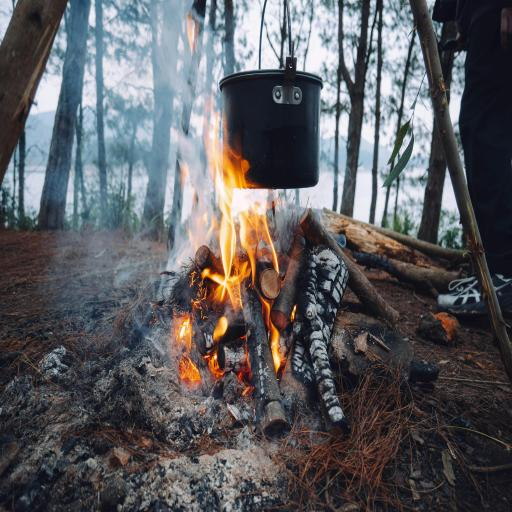campfire: (152, 24, 380, 438)
